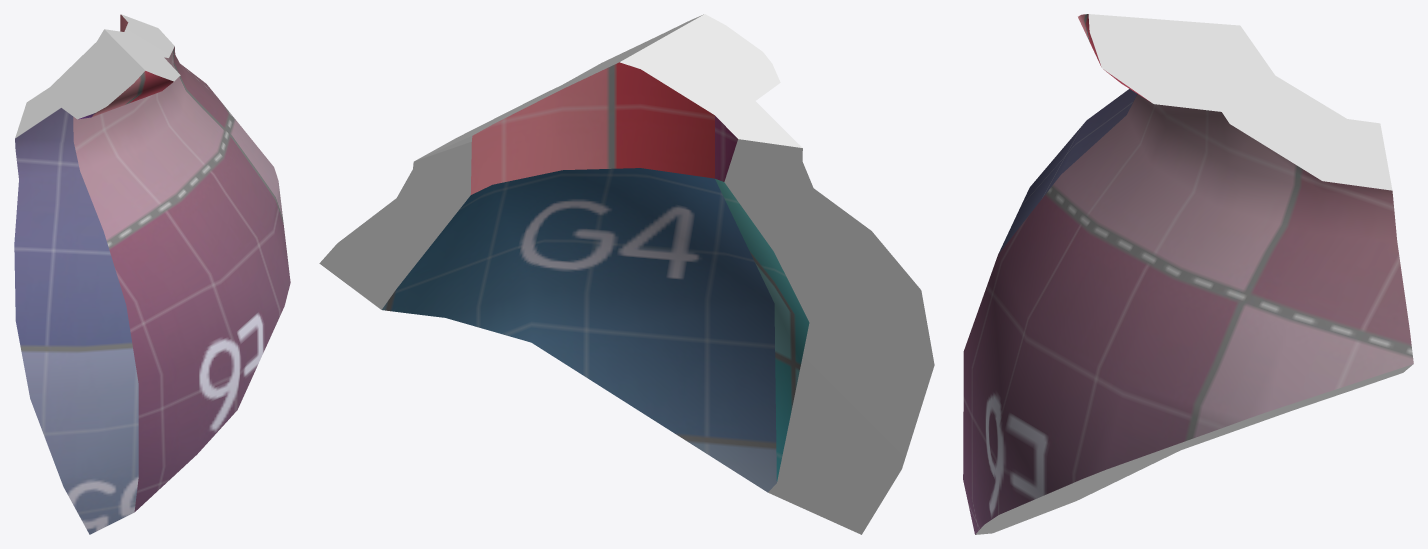
Rendered from RoundVase_SHAT_cell_022.fbx.
3 views of the same model, side by side, from view 1: azimuth 30°, elevation 25°; view 2: azimuth 150°, elevation 25°; view 3: azimuth 270°, elevation 25° (orthographic). The views are drawn at different scales.
Visible parts, largest first — view 1: RoundVase_SHAT_cell_022; view 2: RoundVase_SHAT_cell_022; view 3: RoundVase_SHAT_cell_022.
Part boxes in pixels (<box>): RoundVase_SHAT_cell_022: <box>14,14,290,534</box>; RoundVase_SHAT_cell_022: <box>319,14,934,534</box>; RoundVase_SHAT_cell_022: <box>963,14,1413,534</box>.
Size of the model in its own units: 0.4721 by 0.5465 by 0.3845.
2 materials, 1 textured.
